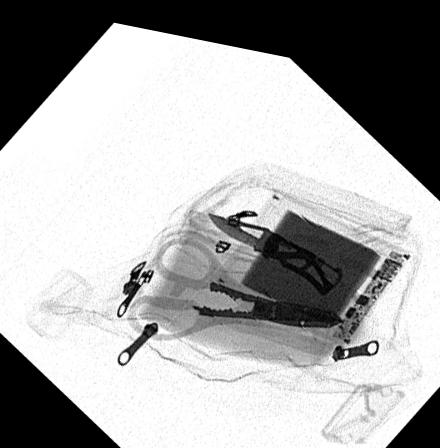Knife: (201, 206, 347, 285)
Powerbank: (222, 183, 413, 333)
Scissors: (124, 225, 346, 332)
